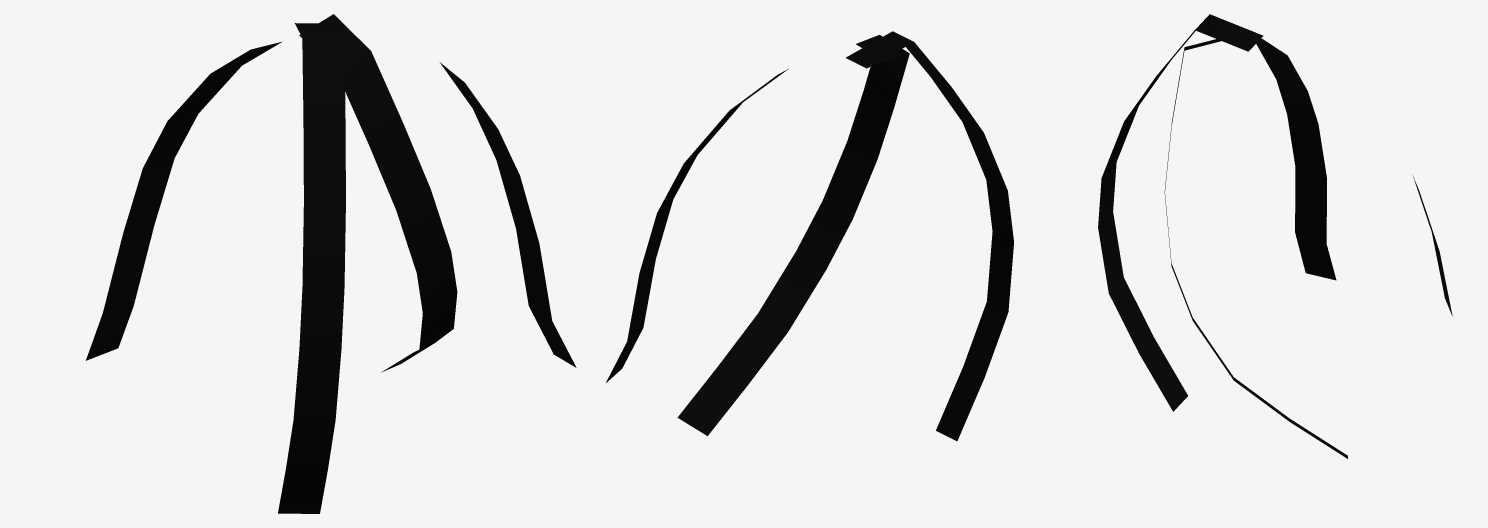
The model's file is fx_fbx_skill_npc_1013_3.FBX.
The picture shows the model from 3 angles, left to right: view 1: azimuth 30°, elevation 25°; view 2: azimuth 150°, elevation 25°; view 3: azimuth 270°, elevation 25°; orthographic projection. The views are drawn at different scales.
Parts seen in each view (by area): view 1: Plane006; view 2: Plane006; view 3: Plane006.
Part boxes in pixels (box(x1,y1,x2,y2)): Plane006: box(86, 14, 576, 513); Plane006: box(606, 31, 1013, 440); Plane006: box(1098, 14, 1452, 458).
Size of the model in its own units: 274 by 191 by 227.
1 material, 1 textured.
